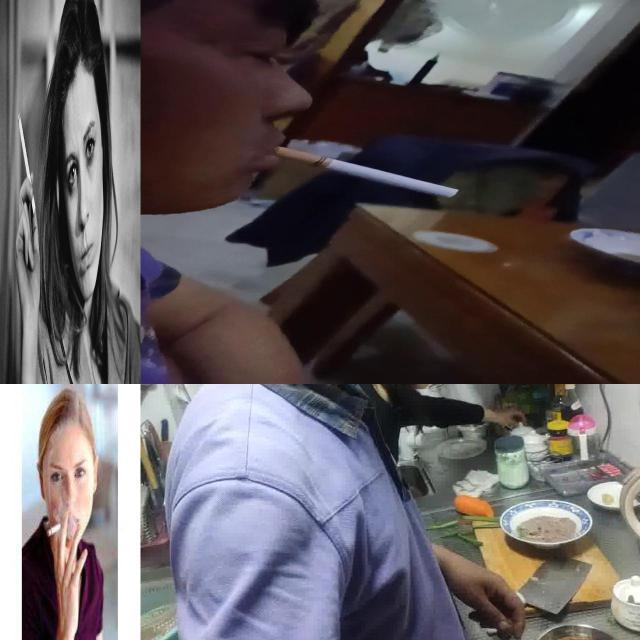smoking: (275, 144, 463, 198), (18, 112, 36, 215), (48, 519, 66, 537)
